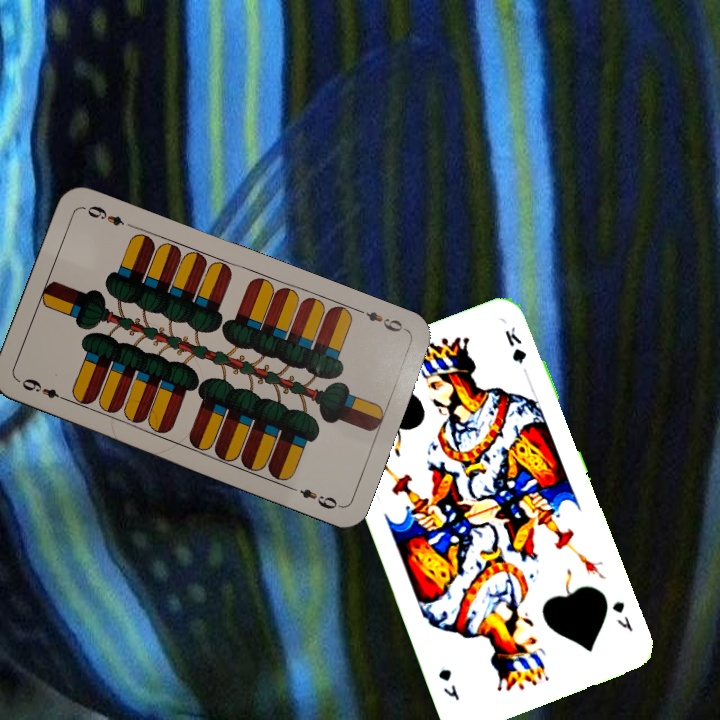E9: (353, 305, 410, 335), (18, 374, 72, 405)
GK: (608, 597, 636, 634)
